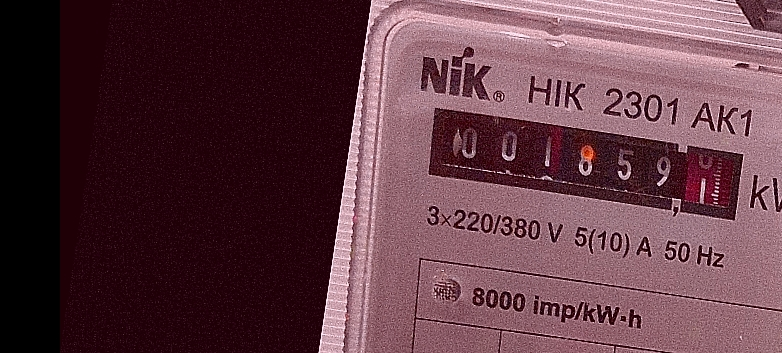0: (457, 123, 482, 161), (497, 126, 521, 162)
1: (540, 132, 556, 168), (694, 173, 711, 205)
5: (612, 144, 638, 182)
8: (574, 140, 599, 177)
9: (651, 151, 675, 188)
screen: (412, 92, 757, 231)
